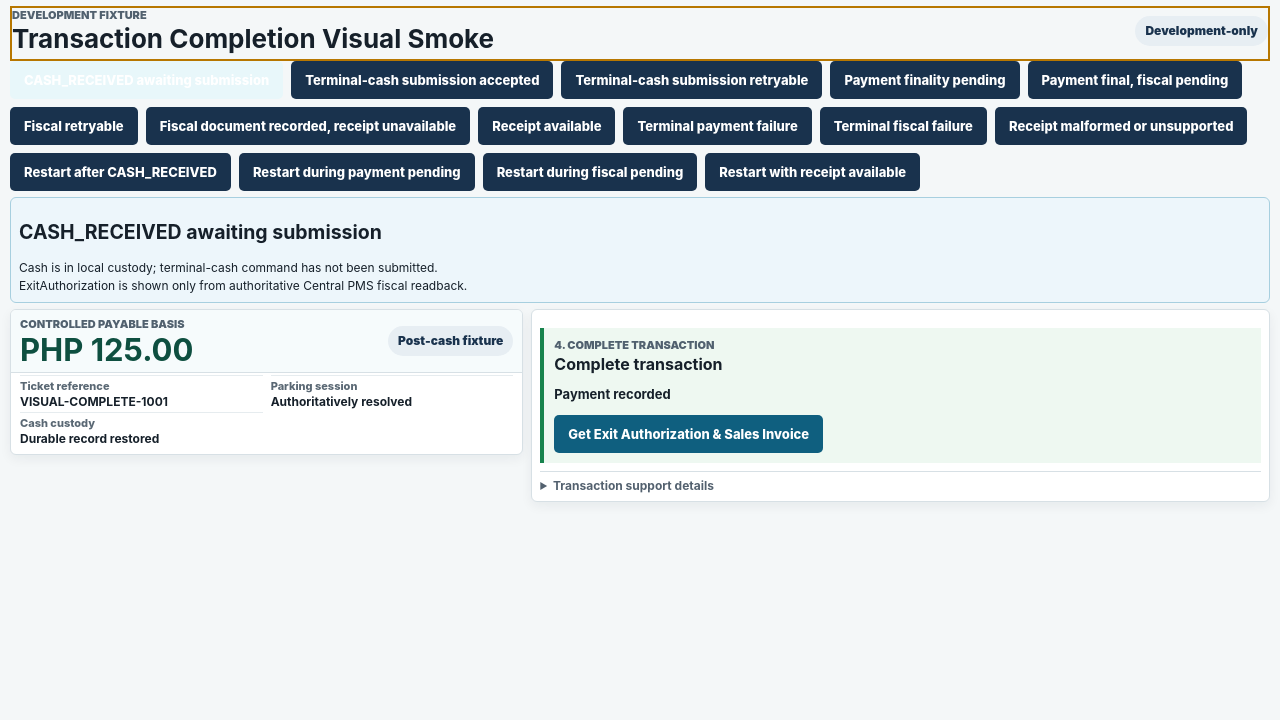
Test: TransactionCompletionVisualSmokeShell › renders restart recovery without exposing the preserved CASH_RECEIVED tender identity
Click the button "Restart during fiscal pending" at (590, 172), box [483, 153, 697, 191]
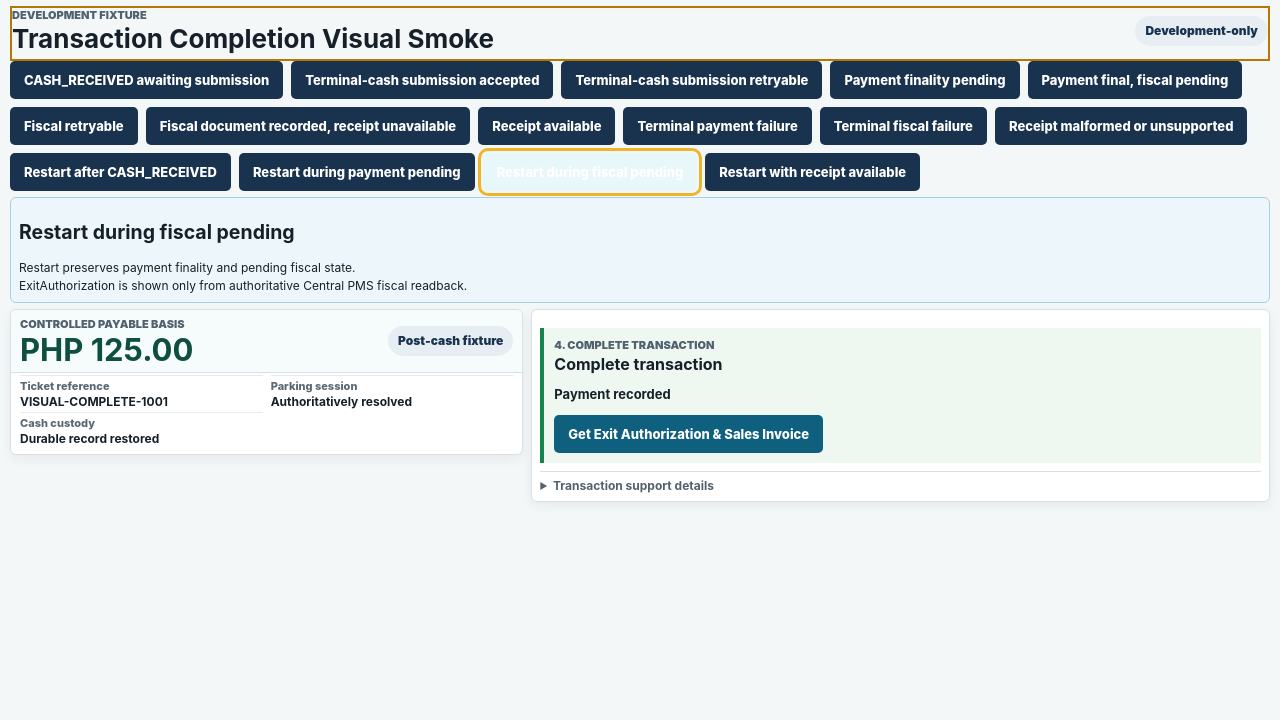
Expected: the text "Restart preserves payment finality and pending fiscal state." is shown, [19, 260, 356, 275]
